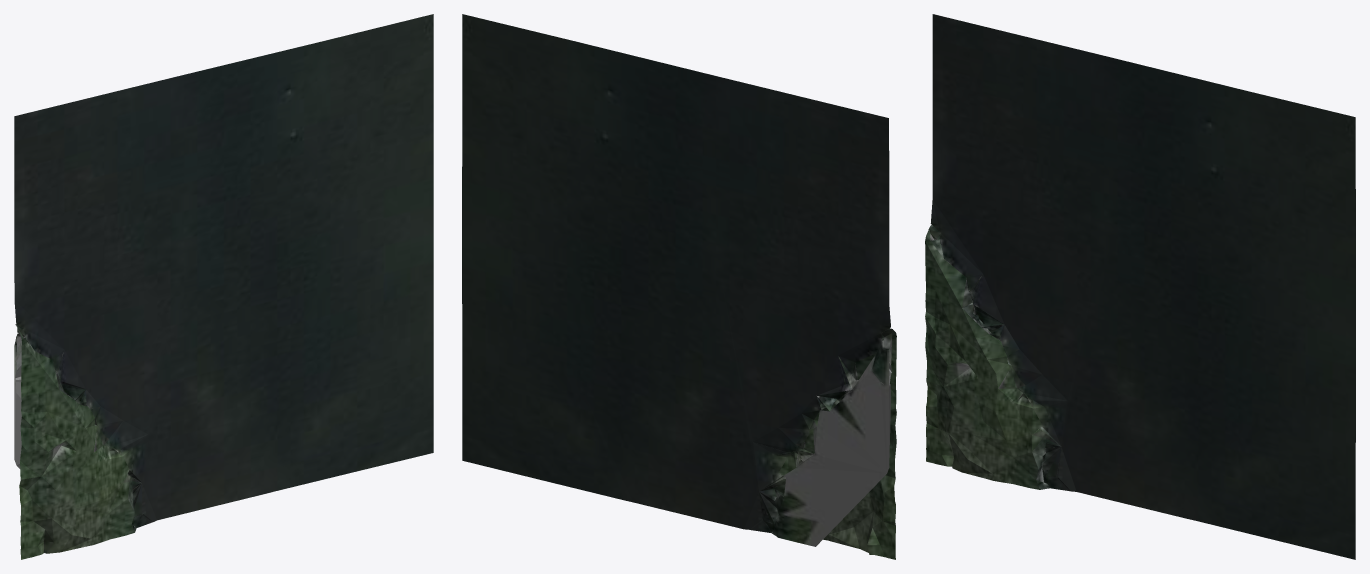
Rendered from Tile_+031_+024_L18_00033.obj.
3 renders of one model, left to right at view 1: azimuth 30°, elevation 25°; view 2: azimuth 150°, elevation 25°; view 3: azimuth 330°, elevation 25°, orthographic.
Size of the model in its own units: 63 by 63 by 3.08.
Materials: 1 (1 with a texture image).
